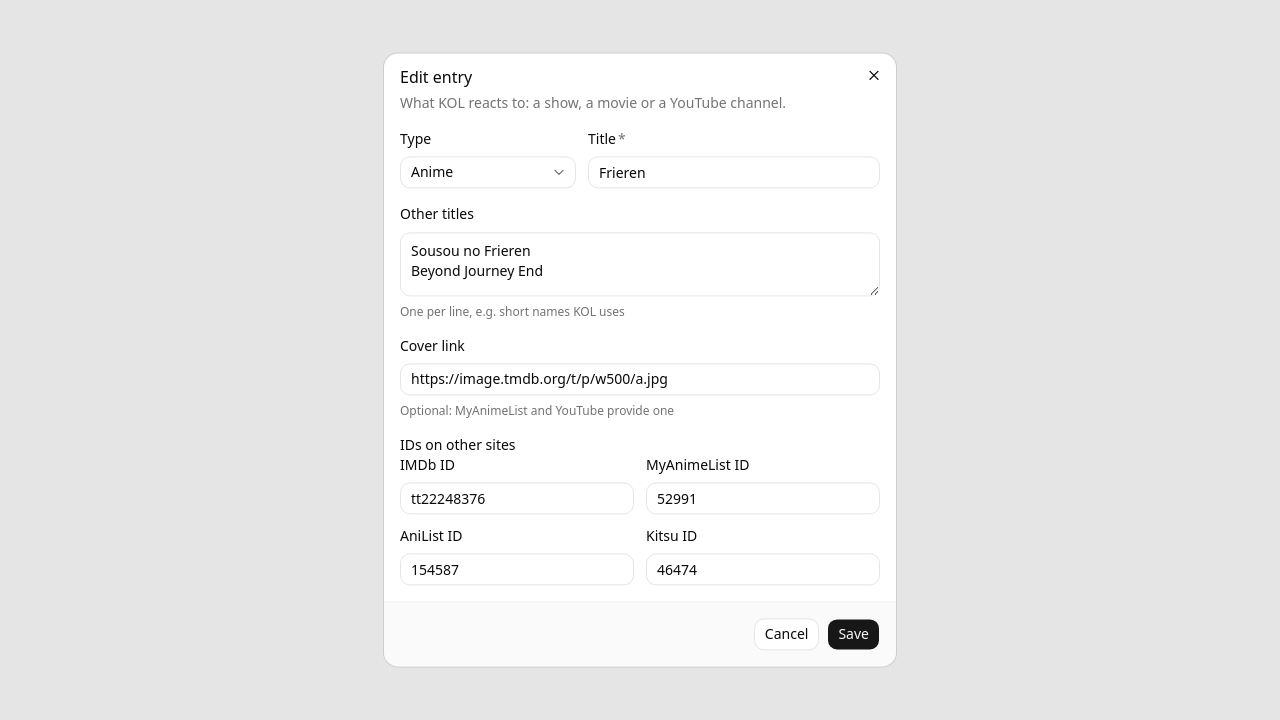
entryEditorDialog › clears a failure when saving again
Click the button "Save": (854, 635) [827,619,880,651]
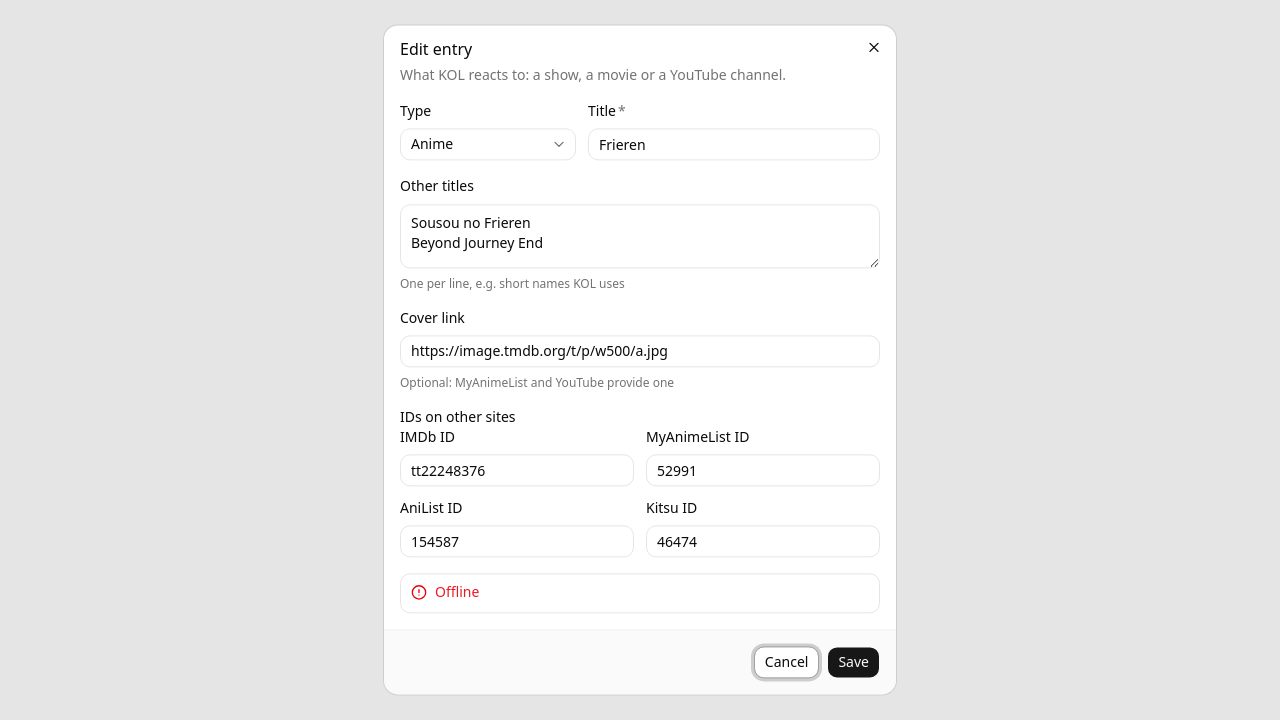
Expected: the text "Offline" is shown, [435,583,479,602]
Click the button "Save": (854, 663) [827,647,880,679]
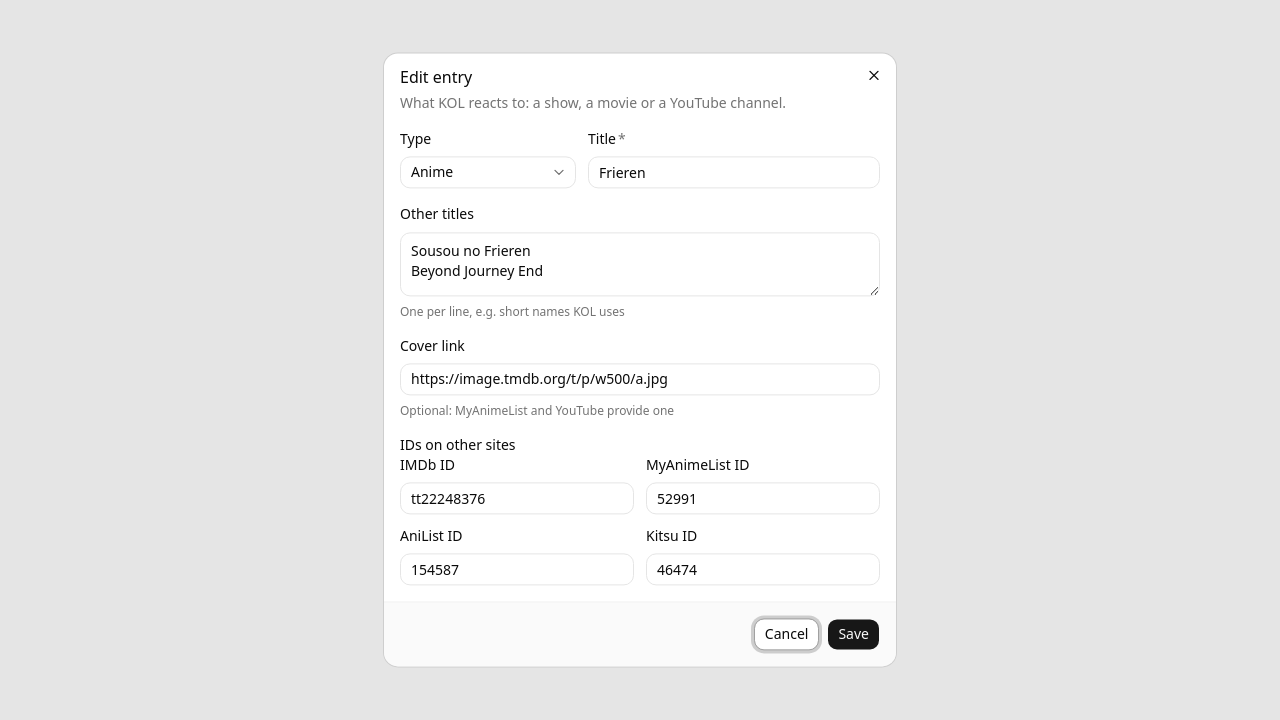
Expected: the text "Offline" is gone
